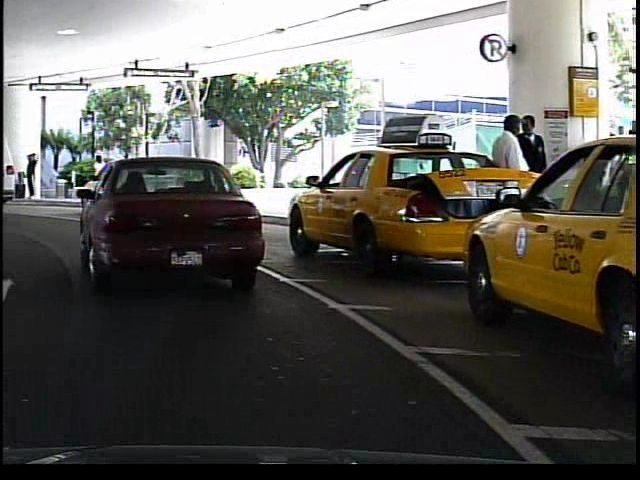person: (486, 110, 529, 247), (514, 111, 556, 243), (85, 151, 110, 196), (21, 144, 39, 202)
